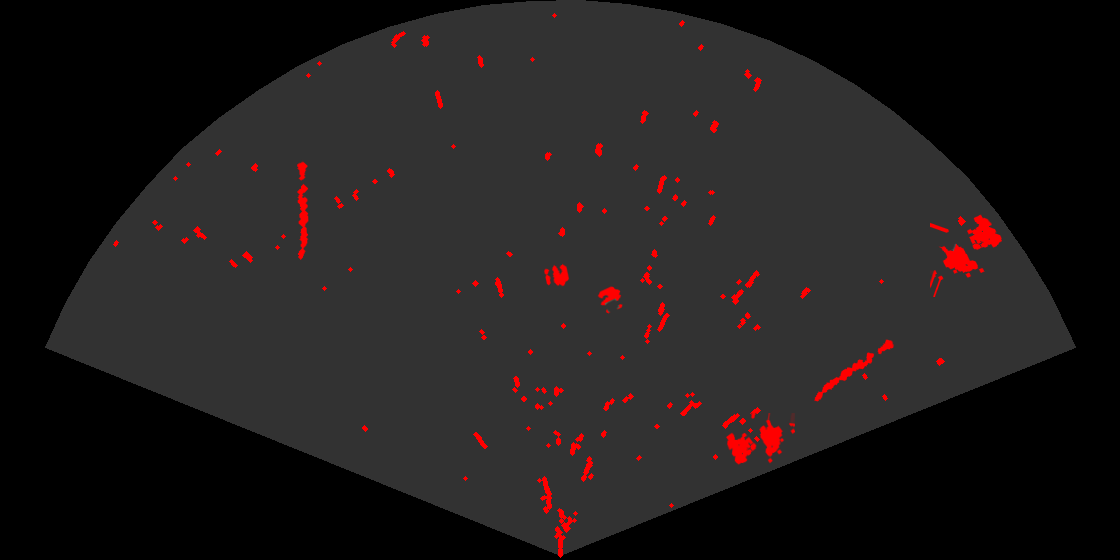ball: (596, 285, 624, 315), (543, 262, 571, 288)
cage: (930, 213, 1003, 297), (724, 413, 795, 466)
chain: (813, 338, 896, 403), (296, 159, 310, 260)
